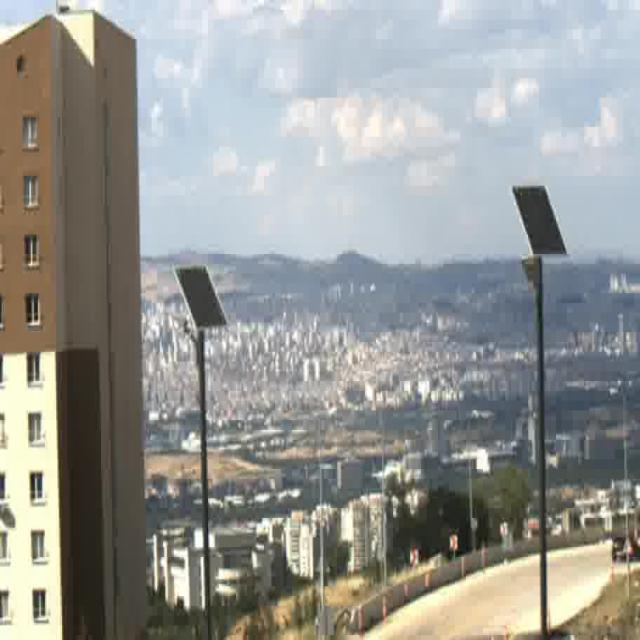Car: (611, 530, 640, 562)
